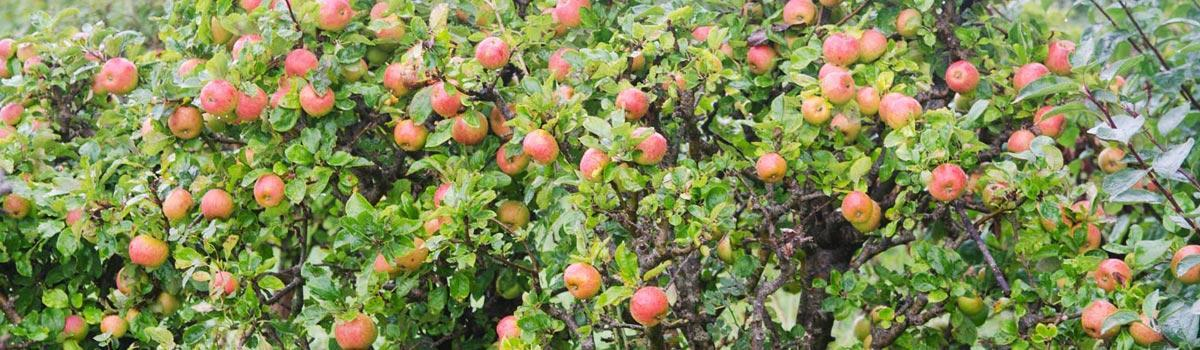apple: (925, 159, 968, 204), (879, 93, 924, 131), (841, 193, 882, 234), (627, 287, 669, 327), (98, 56, 139, 96), (627, 128, 668, 167), (1082, 299, 1124, 337), (334, 313, 376, 350), (564, 264, 603, 302), (819, 68, 857, 107), (231, 32, 270, 68), (823, 30, 862, 66), (496, 196, 534, 232), (296, 82, 335, 117), (200, 78, 236, 115), (452, 110, 488, 146), (393, 118, 431, 152), (1033, 103, 1069, 138), (1131, 309, 1168, 343), (128, 233, 167, 265), (523, 130, 559, 164), (577, 145, 613, 179), (168, 107, 203, 141), (236, 82, 267, 120), (1012, 63, 1051, 93), (202, 186, 236, 220), (616, 86, 648, 122), (477, 36, 514, 67), (545, 45, 579, 78), (160, 186, 193, 220), (253, 174, 287, 206), (945, 61, 980, 92), (801, 95, 834, 127), (856, 30, 890, 61), (1172, 244, 1199, 283), (282, 45, 317, 75), (556, 1, 594, 28), (747, 43, 778, 76), (1098, 257, 1128, 291), (430, 88, 463, 118), (1048, 37, 1076, 71), (116, 264, 148, 292), (856, 87, 881, 119), (2, 191, 31, 218), (99, 311, 127, 338), (1004, 127, 1035, 151), (494, 313, 522, 339), (785, 3, 815, 27), (62, 313, 88, 339), (2, 101, 25, 128), (208, 270, 235, 293), (1, 37, 19, 61)
